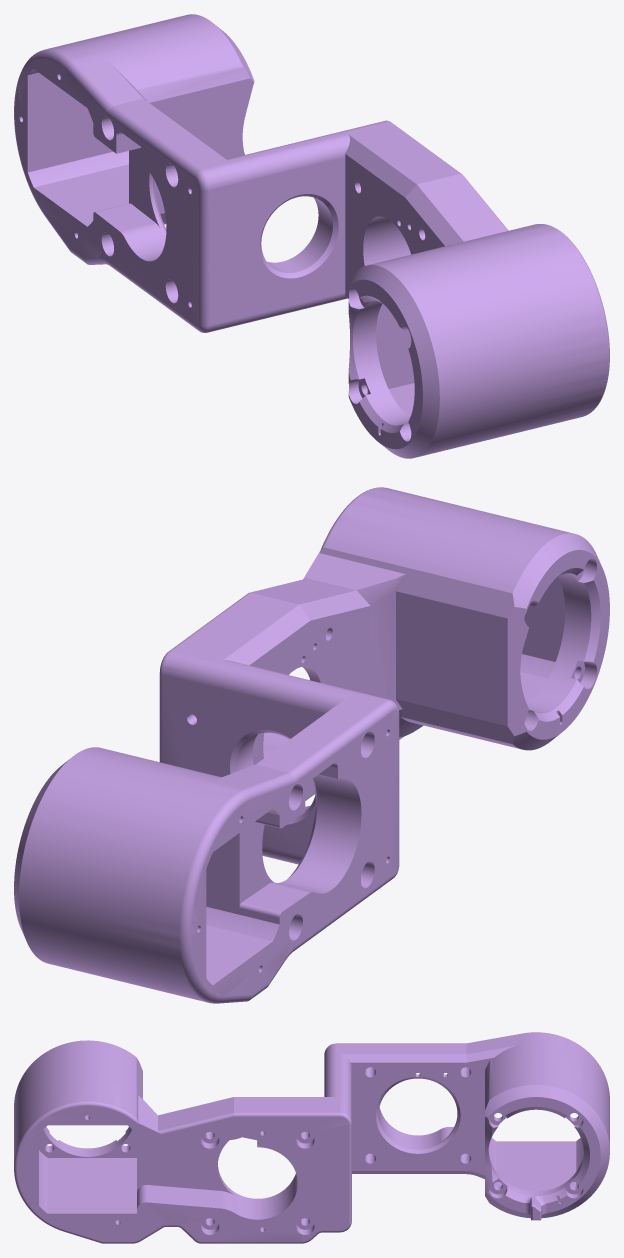
File: Main_CaseJoint2_3.dae
3 views of the same model, one above another, from view 1: azimuth 30°, elevation 25°; view 2: azimuth 150°, elevation 25°; view 3: azimuth 270°, elevation 25° (orthographic). The views are drawn at different scales.
Parts seen in each view (by area): view 1: Main_CaseJoint2_3; view 2: Main_CaseJoint2_3; view 3: Main_CaseJoint2_3.
Part boxes in pixels (left/top/right/bottom): Main_CaseJoint2_3: left=14, top=14, right=609, bottom=458; Main_CaseJoint2_3: left=14, top=487, right=609, bottom=1003; Main_CaseJoint2_3: left=14, top=1032, right=609, bottom=1243.
Size of the model in its own units: 0.0558 by 0.194 by 0.051.
